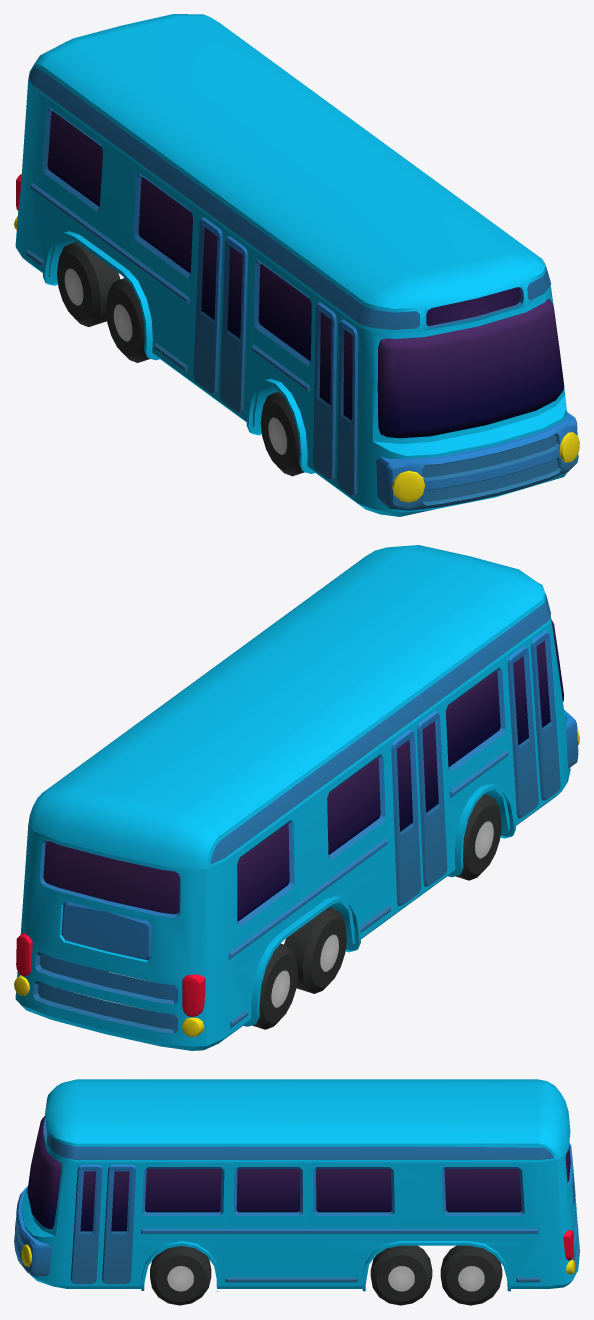
The model's file is TenSeater.fbx.
3 views of the same model, one above another, from view 1: azimuth 30°, elevation 25°; view 2: azimuth 150°, elevation 25°; view 3: azimuth 270°, elevation 25° (orthographic). The views are drawn at different scales.
Parts seen in each view (by area): view 1: TenSeater_Body, TenSeater_Removable; view 2: TenSeater_Body, TenSeater_Removable; view 3: TenSeater_Body, TenSeater_Removable.
Boxes of the visible parts, <box> form: TenSeater_Body: <box>14,80,579,516</box>; TenSeater_Removable: <box>28,14,551,333</box>; TenSeater_Body: <box>14,618,579,1050</box>; TenSeater_Removable: <box>28,545,550,869</box>; TenSeater_Body: <box>14,1115,579,1305</box>; TenSeater_Removable: <box>43,1079,570,1162</box>.
Bounding box in the file's own units: 642 × 680 × 2054.
1 material, 1 textured.
